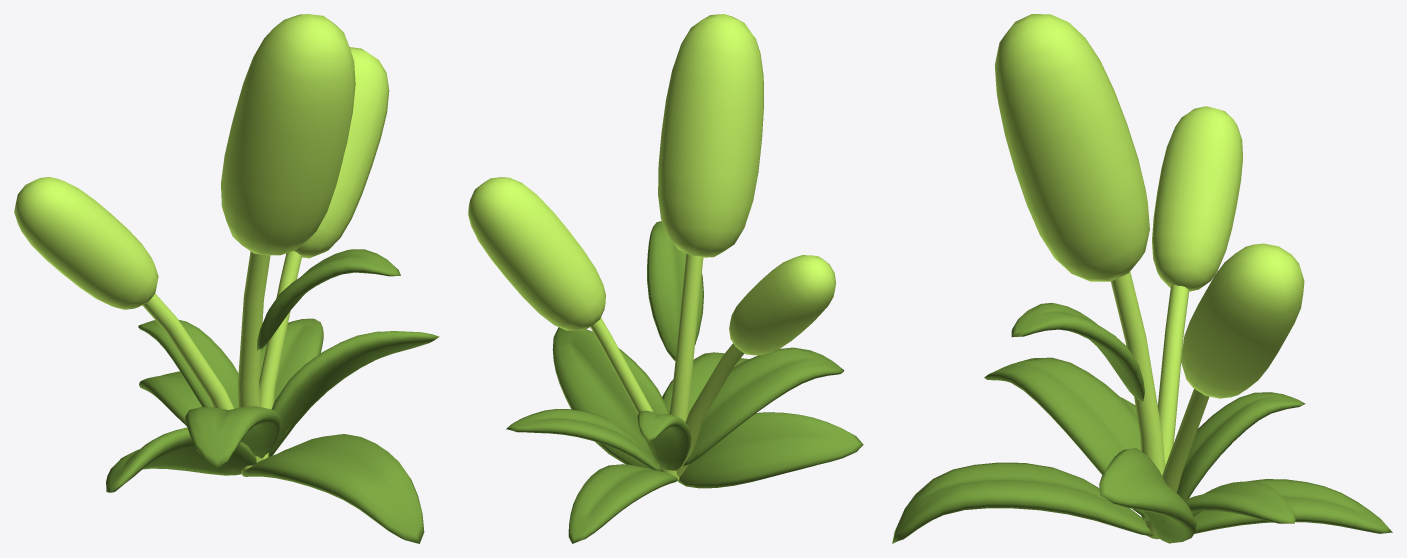
The model's file is Lavender_1.fbx.
The picture shows the model from 3 angles, left to right: view 1: azimuth 30°, elevation 25°; view 2: azimuth 150°, elevation 25°; view 3: azimuth 270°, elevation 25°; orthographic projection. The views are drawn at different scales.
Parts seen in each view (by area): view 1: Cube.276, Cube.396, Leaf.018, Cube.334, Leaf.015, Leaf.021, Leaf.014, Leaf.017, NurbsPath.008, Leaf.019, NurbsPath.009, Leaf.020 (+2 smaller); view 2: Cube.276, Cube.334, Leaf.014, Cube.396, Leaf.015, Leaf.021, Leaf.016, Leaf.017, Leaf.020, NurbsPath.008, Leaf.019, NurbsPath.009 (+2 smaller); view 3: Cube.276, Cube.334, Cube.396, Leaf.018, Leaf.021, Leaf.015, Leaf.016, Leaf.019, NurbsPath.008, Leaf.017, NurbsPath.009, Leaf.020 (+1 smaller).
Boxes of the visible parts, x1,y1,x2,y2 form: Cube.276: [221, 14, 355, 255]; Cube.396: [14, 177, 158, 309]; Leaf.018: [244, 434, 424, 543]; Cube.334: [294, 47, 389, 258]; Leaf.015: [259, 331, 439, 458]; Leaf.021: [185, 406, 281, 467]; Leaf.014: [106, 427, 256, 492]; Leaf.017: [257, 249, 400, 350]; NurbsPath.008: [238, 251, 270, 462]; Leaf.019: [138, 319, 238, 408]; NurbsPath.009: [142, 293, 257, 476]; Leaf.020: [259, 318, 323, 437]; Cube.276: [658, 14, 763, 257]; Cube.334: [468, 177, 605, 330]; Leaf.014: [678, 412, 863, 488]; Cube.396: [729, 255, 836, 355]; Leaf.015: [552, 327, 669, 469]; Leaf.021: [683, 347, 843, 466]; Leaf.016: [568, 464, 677, 543]; Leaf.017: [647, 221, 703, 360]; Leaf.020: [506, 409, 661, 471]; NurbsPath.008: [661, 253, 703, 479]; Leaf.019: [637, 410, 691, 470]; NurbsPath.009: [676, 343, 744, 480]; Cube.276: [994, 14, 1149, 281]; Cube.334: [1181, 243, 1304, 398]; Cube.396: [1152, 106, 1242, 291]; Leaf.018: [892, 462, 1153, 543]; Leaf.021: [984, 357, 1145, 517]; Leaf.015: [1099, 448, 1196, 543]; Leaf.016: [1194, 479, 1392, 533]; Leaf.019: [1177, 392, 1305, 500]; NurbsPath.008: [1111, 271, 1165, 524]; Leaf.017: [1011, 303, 1144, 401]; NurbsPath.009: [1143, 285, 1189, 521]; Leaf.020: [1161, 481, 1295, 525].
Size of the model in its own units: 0.4132 by 0.4384 by 0.5012.
